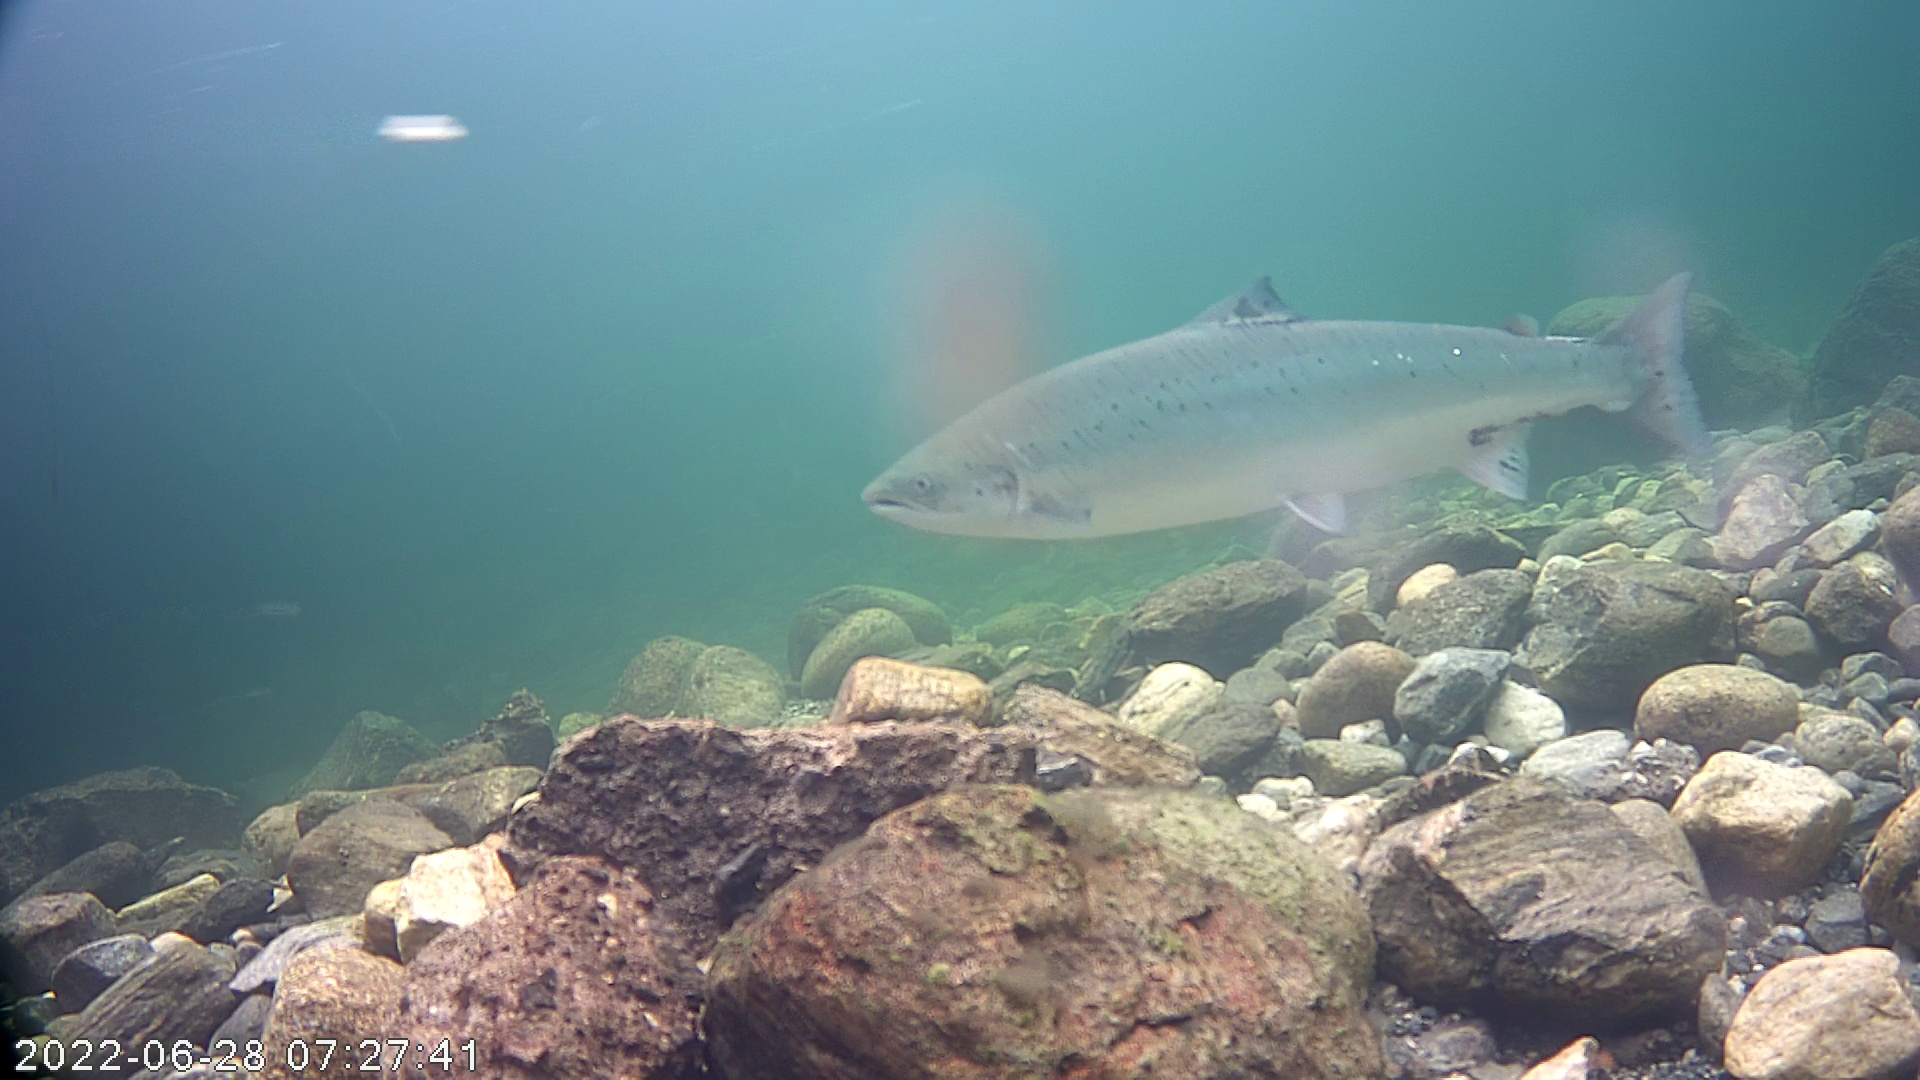salmon: (853, 195, 1727, 603)
